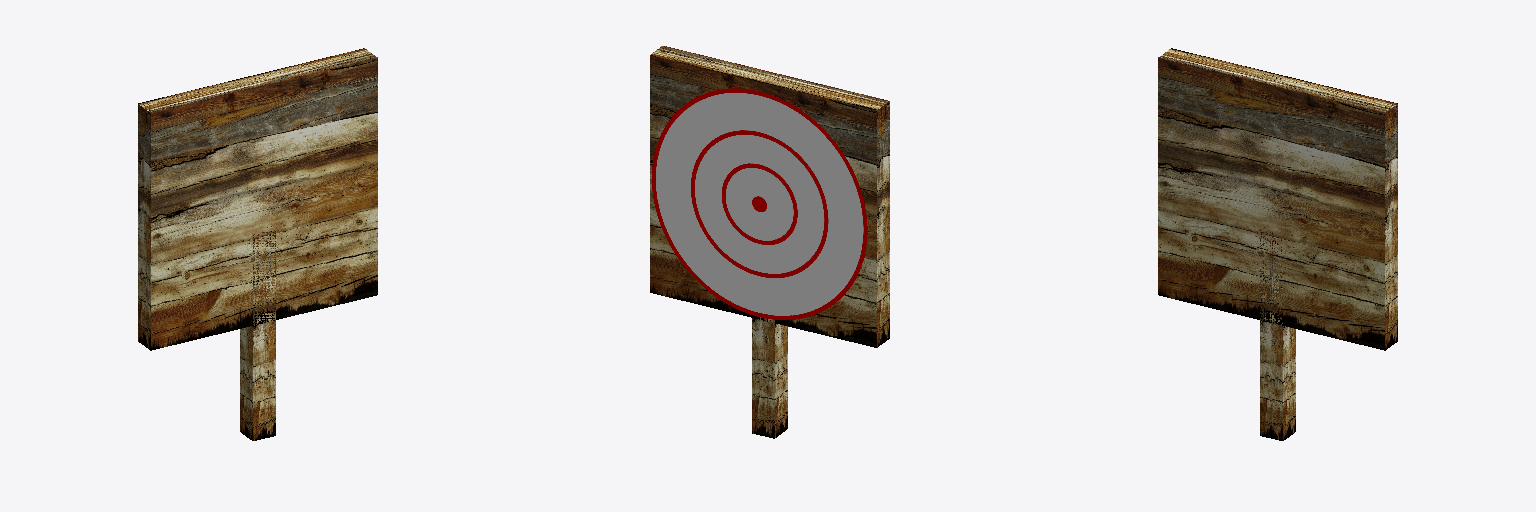
3 renders of one model, left to right at view 1: azimuth 30°, elevation 25°; view 2: azimuth 150°, elevation 25°; view 3: azimuth 330°, elevation 25°, orthographic.
Visible parts, largest first — view 1: obj1; view 2: obj1; view 3: obj1.
Boxes of the visible parts, x1,y1,x2,y2 form: obj1: [138, 48, 377, 440]; obj1: [650, 46, 889, 438]; obj1: [1158, 48, 1397, 440].
Bounding box in the file's own units: 10 × 14.87 × 1.27.
Materials: 2 (2 with a texture image).